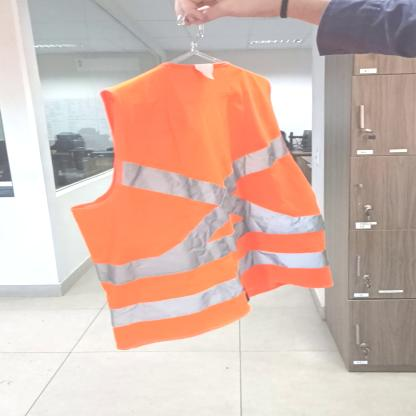colete: (72, 58, 338, 350)
